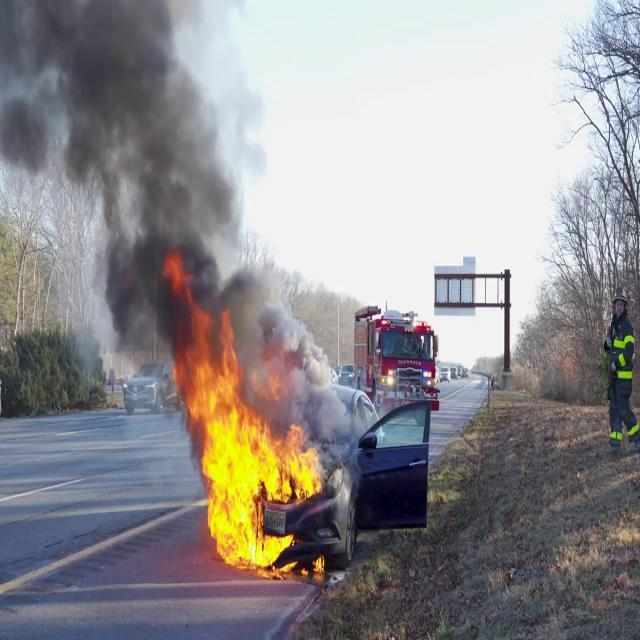Fire: (178, 318, 326, 576)
Smoke: (0, 0, 310, 371)
